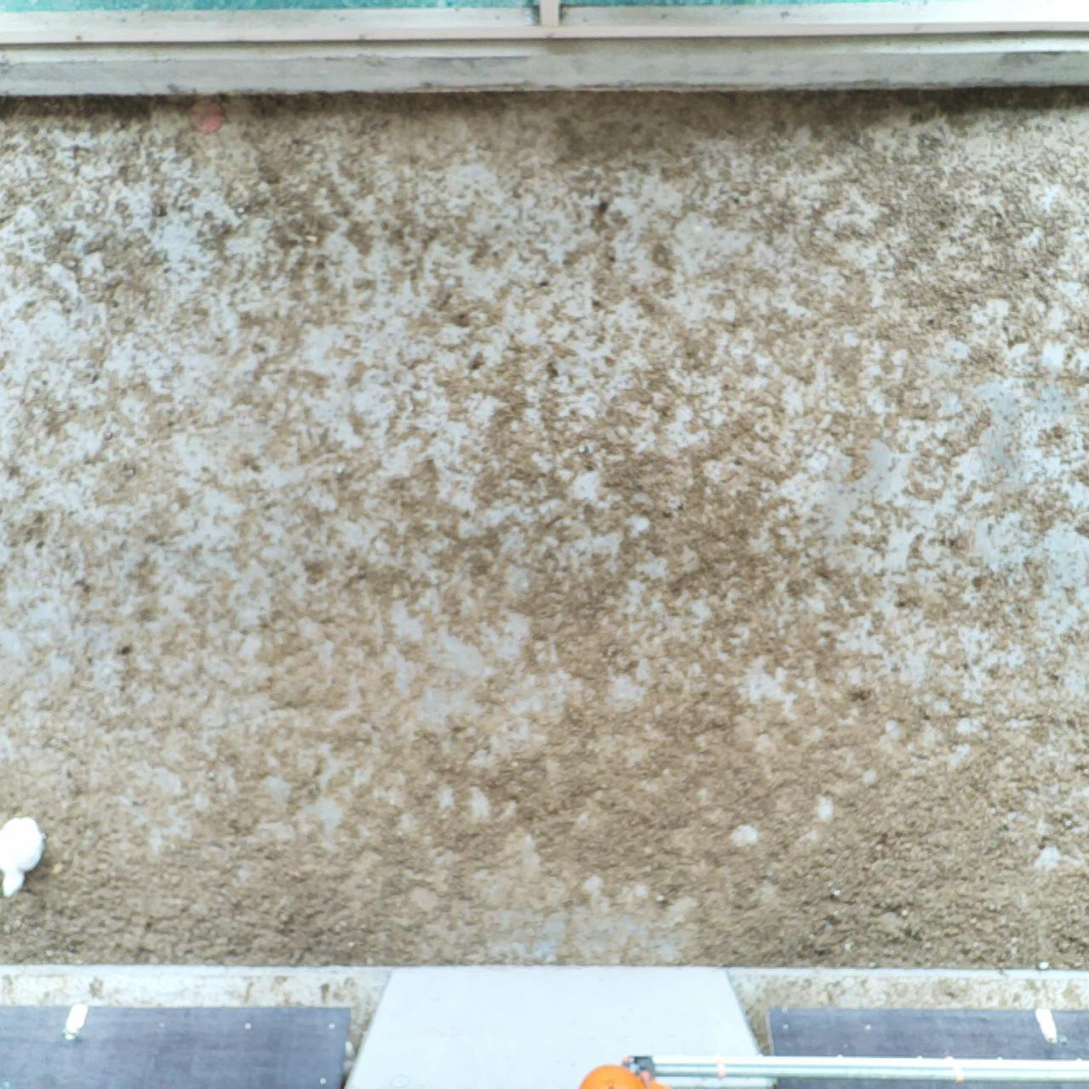chicken: (0, 811, 47, 905)
